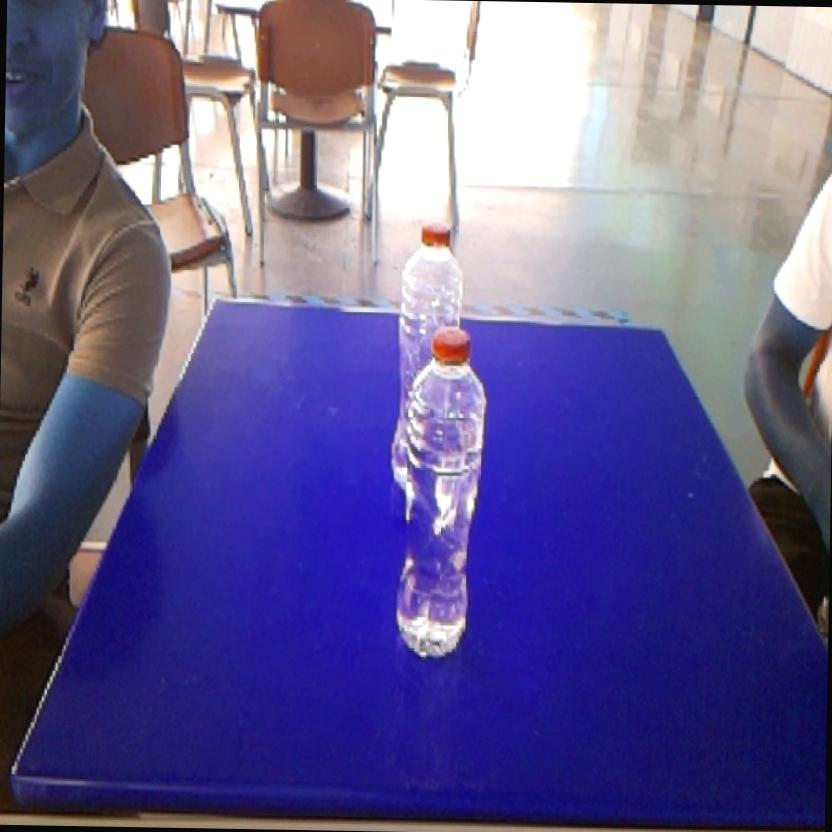no_label: (383, 319, 498, 672), (393, 208, 476, 325)
